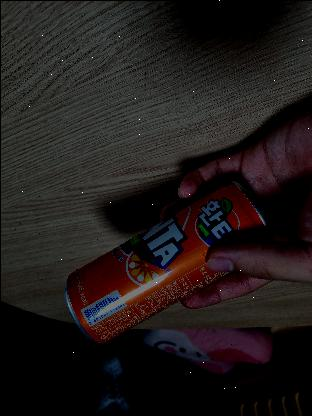Can: (62, 178, 270, 346)
